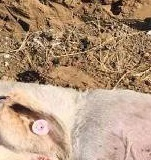text: (24, 110, 57, 145)
